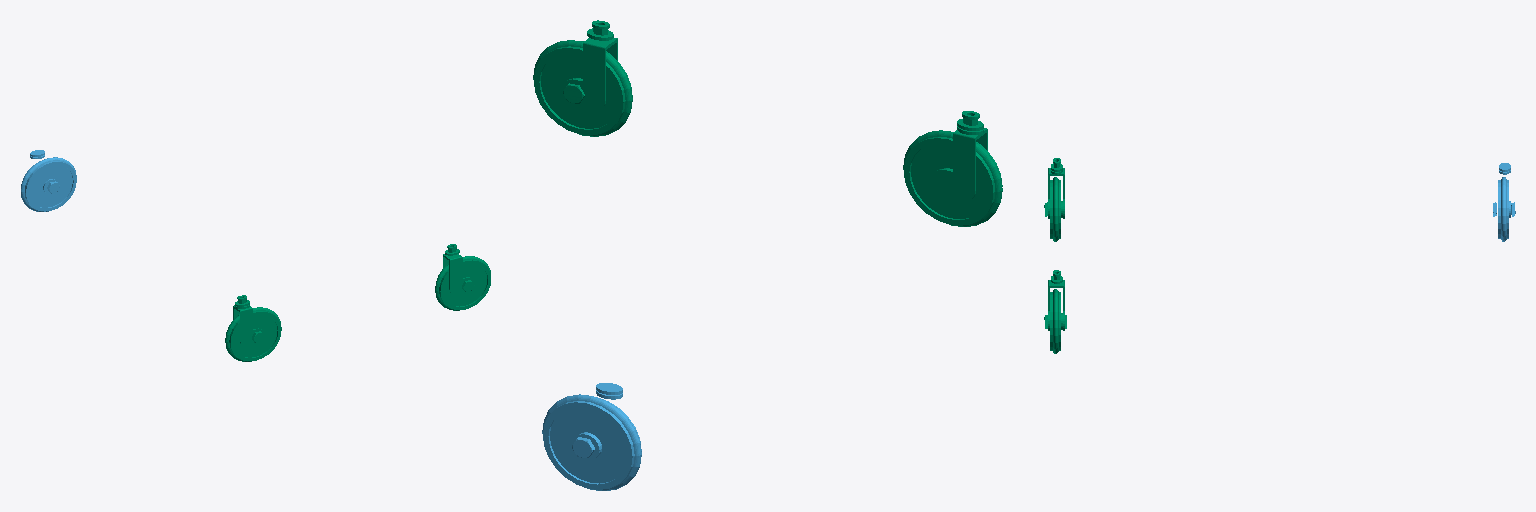
The robot description file, URDF, robot "partnet_10798ccb7072393e86d53ab0fe94e911":
<robot name="partnet_10798ccb7072393e86d53ab0fe94e911">
	<link name="base" />
	<link name="link_0">
		<collision>
			<origin xyz="0.3800690160374884 0 -0.5280916393456697" />
			<geometry>
				<mesh filename="new5_objs/handle-7-0.obj" />
			</geometry>
		</collision>
		<collision>
			<origin xyz="0.3800690160374884 0 -0.5280916393456697" />
			<geometry>
				<mesh filename="new5_objs/handle-7-1.obj" />
			</geometry>
		</collision>
		<collision>
			<origin xyz="0.3800690160374884 0 -0.5280916393456697" />
			<geometry>
				<mesh filename="new5_objs/handle-7-2.obj" />
			</geometry>
		</collision>
		<collision>
			<origin xyz="0.3800690160374884 0 -0.5280916393456697" />
			<geometry>
				<mesh filename="new5_objs/handle-7-3.obj" />
			</geometry>
		</collision>
		<collision>
			<origin xyz="0.3800690160374884 0 -0.5280916393456697" />
			<geometry>
				<mesh filename="new5_objs/cabinet_door_surface-6-0.obj" />
			</geometry>
		</collision>
		<collision>
			<origin xyz="0.3800690160374884 0 -0.5280916393456697" />
			<geometry>
				<mesh filename="new5_objs/cabinet_door_surface-6-1.obj" />
			</geometry>
		</collision>
		<collision>
			<origin xyz="0.3800690160374884 0 -0.5280916393456697" />
			<geometry>
				<mesh filename="new5_objs/cabinet_door_surface-6-2.obj" />
			</geometry>
		</collision>
		<collision>
			<origin xyz="0.3800690160374884 0 -0.5280916393456697" />
			<geometry>
				<mesh filename="new5_objs/cabinet_door_surface-6-3.obj" />
			</geometry>
		</collision>
		<collision>
			<origin xyz="0.3800690160374884 0 -0.5280916393456697" />
			<geometry>
				<mesh filename="new5_objs/cabinet_door_surface-6-4.obj" />
			</geometry>
		</collision>
		<collision>
			<origin xyz="0.3800690160374884 0 -0.5280916393456697" />
			<geometry>
				<mesh filename="new5_objs/cabinet_door_surface-6-5.obj" />
			</geometry>
		</collision>
		<collision>
			<origin xyz="0.3800690160374884 0 -0.5280916393456697" />
			<geometry>
				<mesh filename="new5_objs/cabinet_door_surface-6-6.obj" />
			</geometry>
		</collision>
		<collision>
			<origin xyz="0.3800690160374884 0 -0.5280916393456697" />
			<geometry>
				<mesh filename="new5_objs/cabinet_door_surface-6-7.obj" />
			</geometry>
		</collision>
		<collision>
			<origin xyz="0.3800690160374884 0 -0.5280916393456697" />
			<geometry>
				<mesh filename="new5_objs/cabinet_door_surface-6-8.obj" />
			</geometry>
		</collision>
		<collision>
			<origin xyz="0.3800690160374884 0 -0.5280916393456697" />
			<geometry>
				<mesh filename="new5_objs/cabinet_door_surface-6-9.obj" />
			</geometry>
		</collision>
		<collision>
			<origin xyz="0.3800690160374884 0 -0.5280916393456697" />
			<geometry>
				<mesh filename="new5_objs/cabinet_door_surface-6-10.obj" />
			</geometry>
		</collision>
		<collision>
			<origin xyz="0.3800690160374884 0 -0.5280916393456697" />
			<geometry>
				<mesh filename="new5_objs/cabinet_door_surface-6-11.obj" />
			</geometry>
		</collision>
		<visual name="cabinet_door_surface-6">
			<origin xyz="0.3800690160374884 0 -0.5280916393456697" />
			<geometry>
				<mesh filename="textured_objs/original-25.obj" />
			</geometry>
		</visual>
		<visual name="cabinet_door_surface-6">
			<origin xyz="0.3800690160374884 0 -0.5280916393456697" />
			<geometry>
				<mesh filename="textured_objs/original-29.obj" />
			</geometry>
		</visual>
		<visual name="cabinet_door_surface-6">
			<origin xyz="0.3800690160374884 0 -0.5280916393456697" />
			<geometry>
				<mesh filename="textured_objs/original-27.obj" />
			</geometry>
		</visual>
		<visual name="cabinet_door_surface-6">
			<origin xyz="0.3800690160374884 0 -0.5280916393456697" />
			<geometry>
				<mesh filename="textured_objs/original-26.obj" />
			</geometry>
		</visual>
		<visual name="cabinet_door_surface-6">
			<origin xyz="0.3800690160374884 0 -0.5280916393456697" />
			<geometry>
				<mesh filename="textured_objs/original-28.obj" />
			</geometry>
		</visual>
		<visual name="handle-7">
			<origin xyz="0.3800690160374884 0 -0.5280916393456697" />
			<geometry>
				<mesh filename="textured_objs/original-30.obj" />
			</geometry>
		</visual>
		</link>
	<joint name="joint_0" type="revolute">
		<origin xyz="-0.3800690160374884 0 0.5280916393456697" />
		<axis xyz="0 -1 0" />
		<child link="link_0" />
		<parent link="link_1" />
		<limit lower="-0.0" upper="2.8274333882308134" />
	</joint>
	<link name="link_1">
		<collision>
			<origin xyz="0 0 0" />
			<geometry>
				<mesh filename="new5_objs/bottom_panel-13-0.obj" />
			</geometry>
		</collision>
		<collision>
			<origin xyz="0 0 0" />
			<geometry>
				<mesh filename="new5_objs/base_side_panel-11-0.obj" />
			</geometry>
		</collision>
		<collision>
			<origin xyz="0 0 0" />
			<geometry>
				<mesh filename="new5_objs/other_leaf-24-0.obj" />
			</geometry>
		</collision>
		<collision>
			<origin xyz="0 0 0" />
			<geometry>
				<mesh filename="new5_objs/frame_horizontal_bar-29-0.obj" />
			</geometry>
		</collision>
		<collision>
			<origin xyz="0 0 0" />
			<geometry>
				<mesh filename="new5_objs/frame_horizontal_bar-29-1.obj" />
			</geometry>
		</collision>
		<collision>
			<origin xyz="0 0 0" />
			<geometry>
				<mesh filename="new5_objs/frame_horizontal_bar-29-2.obj" />
			</geometry>
		</collision>
		<collision>
			<origin xyz="0 0 0" />
			<geometry>
				<mesh filename="new5_objs/frame_horizontal_bar-29-3.obj" />
			</geometry>
		</collision>
		<collision>
			<origin xyz="0 0 0" />
			<geometry>
				<mesh filename="new5_objs/frame_horizontal_bar-29-4.obj" />
			</geometry>
		</collision>
		<collision>
			<origin xyz="0 0 0" />
			<geometry>
				<mesh filename="new5_objs/frame_horizontal_bar-29-5.obj" />
			</geometry>
		</collision>
		<collision>
			<origin xyz="0 0 0" />
			<geometry>
				<mesh filename="new5_objs/frame_horizontal_bar-29-6.obj" />
			</geometry>
		</collision>
		<collision>
			<origin xyz="0 0 0" />
			<geometry>
				<mesh filename="new5_objs/back_panel-16-0.obj" />
			</geometry>
		</collision>
		<collision>
			<origin xyz="0 0 0" />
			<geometry>
				<mesh filename="new5_objs/other_leaf-23-0.obj" />
			</geometry>
		</collision>
		<collision>
			<origin xyz="0 0 0" />
			<geometry>
				<mesh filename="new5_objs/frame_vertical_bar-26-0.obj" />
			</geometry>
		</collision>
		<collision>
			<origin xyz="0 0 0" />
			<geometry>
				<mesh filename="new5_objs/base_side_panel-12-0.obj" />
			</geometry>
		</collision>
		<collision>
			<origin xyz="0 0 0" />
			<geometry>
				<mesh filename="new5_objs/vertical_side_panel-15-0.obj" />
			</geometry>
		</collision>
		<collision>
			<origin xyz="0 0 0" />
			<geometry>
				<mesh filename="new5_objs/vertical_side_panel-15-1.obj" />
			</geometry>
		</collision>
		<collision>
			<origin xyz="0 0 0" />
			<geometry>
				<mesh filename="new5_objs/vertical_side_panel-15-2.obj" />
			</geometry>
		</collision>
		<collision>
			<origin xyz="0 0 0" />
			<geometry>
				<mesh filename="new5_objs/vertical_side_panel-15-3.obj" />
			</geometry>
		</collision>
		<collision>
			<origin xyz="0 0 0" />
			<geometry>
				<mesh filename="new5_objs/vertical_side_panel-15-4.obj" />
			</geometry>
		</collision>
		<collision>
			<origin xyz="0 0 0" />
			<geometry>
				<mesh filename="new5_objs/vertical_side_panel-15-5.obj" />
			</geometry>
		</collision>
		<collision>
			<origin xyz="0 0 0" />
			<geometry>
				<mesh filename="new5_objs/vertical_side_panel-15-6.obj" />
			</geometry>
		</collision>
		<collision>
			<origin xyz="0 0 0" />
			<geometry>
				<mesh filename="new5_objs/vertical_side_panel-15-7.obj" />
			</geometry>
		</collision>
		<collision>
			<origin xyz="0 0 0" />
			<geometry>
				<mesh filename="new5_objs/vertical_side_panel-15-8.obj" />
			</geometry>
		</collision>
		<collision>
			<origin xyz="0 0 0" />
			<geometry>
				<mesh filename="new5_objs/vertical_side_panel-15-9.obj" />
			</geometry>
		</collision>
		<collision>
			<origin xyz="0 0 0" />
			<geometry>
				<mesh filename="new5_objs/frame_horizontal_bar-27-0.obj" />
			</geometry>
		</collision>
		<collision>
			<origin xyz="0 0 0" />
			<geometry>
				<mesh filename="new5_objs/frame_horizontal_bar-27-1.obj" />
			</geometry>
		</collision>
		<collision>
			<origin xyz="0 0 0" />
			<geometry>
				<mesh filename="new5_objs/frame_horizontal_bar-27-2.obj" />
			</geometry>
		</collision>
		<collision>
			<origin xyz="0 0 0" />
			<geometry>
				<mesh filename="new5_objs/frame_horizontal_bar-27-3.obj" />
			</geometry>
		</collision>
		<collision>
			<origin xyz="0 0 0" />
			<geometry>
				<mesh filename="new5_objs/frame_horizontal_bar-27-4.obj" />
			</geometry>
		</collision>
		<collision>
			<origin xyz="0 0 0" />
			<geometry>
				<mesh filename="new5_objs/frame_horizontal_bar-27-5.obj" />
			</geometry>
		</collision>
		<collision>
			<origin xyz="0 0 0" />
			<geometry>
				<mesh filename="new5_objs/frame_horizontal_bar-27-6.obj" />
			</geometry>
		</collision>
		<collision>
			<origin xyz="0 0 0" />
			<geometry>
				<mesh filename="new5_objs/frame_horizontal_bar-27-7.obj" />
			</geometry>
		</collision>
		<collision>
			<origin xyz="0 0 0" />
			<geometry>
				<mesh filename="new5_objs/base_side_panel-10-0.obj" />
			</geometry>
		</collision>
		<collision>
			<origin xyz="0 0 0" />
			<geometry>
				<mesh filename="new5_objs/base_side_panel-9-0.obj" />
			</geometry>
		</collision>
		<collision>
			<origin xyz="0 0 0" />
			<geometry>
				<mesh filename="new5_objs/other_leaf-22-0.obj" />
			</geometry>
		</collision>
		<collision>
			<origin xyz="0 0 0" />
			<geometry>
				<mesh filename="new5_objs/frame_vertical_bar-25-0.obj" />
			</geometry>
		</collision>
		<collision>
			<origin xyz="0 0 0" />
			<geometry>
				<mesh filename="new5_objs/frame_horizontal_bar-28-0.obj" />
			</geometry>
		</collision>
		<collision>
			<origin xyz="0 0 0" />
			<geometry>
				<mesh filename="new5_objs/frame_horizontal_bar-28-1.obj" />
			</geometry>
		</collision>
		<collision>
			<origin xyz="0 0 0" />
			<geometry>
				<mesh filename="new5_objs/frame_horizontal_bar-28-2.obj" />
			</geometry>
		</collision>
		<collision>
			<origin xyz="0 0 0" />
			<geometry>
				<mesh filename="new5_objs/frame_horizontal_bar-28-3.obj" />
			</geometry>
		</collision>
		<collision>
			<origin xyz="0 0 0" />
			<geometry>
				<mesh filename="new5_objs/frame_horizontal_bar-28-4.obj" />
			</geometry>
		</collision>
		<collision>
			<origin xyz="0 0 0" />
			<geometry>
				<mesh filename="new5_objs/other_leaf-21-0.obj" />
			</geometry>
		</collision>
		<collision>
			<origin xyz="0 0 0" />
			<geometry>
				<mesh filename="new5_objs/vertical_side_panel-14-0.obj" />
			</geometry>
		</collision>
		<collision>
			<origin xyz="0 0 0" />
			<geometry>
				<mesh filename="new5_objs/vertical_side_panel-14-1.obj" />
			</geometry>
		</collision>
		<collision>
			<origin xyz="0 0 0" />
			<geometry>
				<mesh filename="new5_objs/vertical_side_panel-14-2.obj" />
			</geometry>
		</collision>
		<collision>
			<origin xyz="0 0 0" />
			<geometry>
				<mesh filename="new5_objs/vertical_side_panel-14-3.obj" />
			</geometry>
		</collision>
		<collision>
			<origin xyz="0 0 0" />
			<geometry>
				<mesh filename="new5_objs/vertical_side_panel-14-4.obj" />
			</geometry>
		</collision>
		<collision>
			<origin xyz="0 0 0" />
			<geometry>
				<mesh filename="new5_objs/vertical_side_panel-14-5.obj" />
			</geometry>
		</collision>
		<collision>
			<origin xyz="0 0 0" />
			<geometry>
				<mesh filename="new5_objs/vertical_side_panel-14-6.obj" />
			</geometry>
		</collision>
		<collision>
			<origin xyz="0 0 0" />
			<geometry>
				<mesh filename="new5_objs/vertical_side_panel-14-7.obj" />
			</geometry>
		</collision>
		<collision>
			<origin xyz="0 0 0" />
			<geometry>
				<mesh filename="new5_objs/vertical_side_panel-14-8.obj" />
			</geometry>
		</collision>
		<collision>
			<origin xyz="0 0 0" />
			<geometry>
				<mesh filename="new5_objs/vertical_side_panel-14-9.obj" />
			</geometry>
		</collision>
		<collision>
			<origin xyz="0 0 0" />
			<geometry>
				<mesh filename="new5_objs/shelf-4-0.obj" />
			</geometry>
		</collision>
		<collision>
			<origin xyz="0 0 0" />
			<geometry>
				<mesh filename="new5_objs/shelf-4-1.obj" />
			</geometry>
		</collision>
		<collision>
			<origin xyz="0 0 0" />
			<geometry>
				<mesh filename="new5_objs/shelf-4-2.obj" />
			</geometry>
		</collision>
		<visual name="shelf-4">
			<origin xyz="0 0 0" />
			<geometry>
				<mesh filename="textured_objs/original-21.obj" />
			</geometry>
		</visual>
		<visual name="vertical_side_panel-14">
			<origin xyz="0 0 0" />
			<geometry>
				<mesh filename="textured_objs/original-17.obj" />
			</geometry>
		</visual>
		<visual name="vertical_side_panel-14">
			<origin xyz="0 0 0" />
			<geometry>
				<mesh filename="textured_objs/original-16.obj" />
			</geometry>
		</visual>
		<visual name="vertical_side_panel-15">
			<origin xyz="0 0 0" />
			<geometry>
				<mesh filename="textured_objs/original-8.obj" />
			</geometry>
		</visual>
		<visual name="vertical_side_panel-15">
			<origin xyz="0 0 0" />
			<geometry>
				<mesh filename="textured_objs/original-7.obj" />
			</geometry>
		</visual>
		<visual name="back_panel-16">
			<origin xyz="0 0 0" />
			<geometry>
				<mesh filename="textured_objs/original-13.obj" />
			</geometry>
		</visual>
		<visual name="other_leaf-24">
			<origin xyz="0 0 0" />
			<geometry>
				<mesh filename="textured_objs/original-20.obj" />
			</geometry>
		</visual>
		<visual name="other_leaf-23">
			<origin xyz="0 0 0" />
			<geometry>
				<mesh filename="textured_objs/original-12.obj" />
			</geometry>
		</visual>
		<visual name="other_leaf-22">
			<origin xyz="0 0 0" />
			<geometry>
				<mesh filename="textured_objs/original-11.obj" />
			</geometry>
		</visual>
		<visual name="other_leaf-21">
			<origin xyz="0 0 0" />
			<geometry>
				<mesh filename="textured_objs/original-10.obj" />
			</geometry>
		</visual>
		<visual name="frame_vertical_bar-25">
			<origin xyz="0 0 0" />
			<geometry>
				<mesh filename="textured_objs/original-2.obj" />
			</geometry>
		</visual>
		<visual name="frame_vertical_bar-26">
			<origin xyz="0 0 0" />
			<geometry>
				<mesh filename="textured_objs/original-4.obj" />
			</geometry>
		</visual>
		<visual name="frame_horizontal_bar-27">
			<origin xyz="0 0 0" />
			<geometry>
				<mesh filename="textured_objs/original-5.obj" />
			</geometry>
		</visual>
		<visual name="frame_horizontal_bar-28">
			<origin xyz="0 0 0" />
			<geometry>
				<mesh filename="textured_objs/original-23.obj" />
			</geometry>
		</visual>
		<visual name="frame_horizontal_bar-29">
			<origin xyz="0 0 0" />
			<geometry>
				<mesh filename="textured_objs/original-3.obj" />
			</geometry>
		</visual>
		<visual name="base_side_panel-9">
			<origin xyz="0 0 0" />
			<geometry>
				<mesh filename="textured_objs/original-14.obj" />
			</geometry>
		</visual>
		<visual name="base_side_panel-10">
			<origin xyz="0 0 0" />
			<geometry>
				<mesh filename="textured_objs/original-9.obj" />
			</geometry>
		</visual>
		<visual name="base_side_panel-11">
			<origin xyz="0 0 0" />
			<geometry>
				<mesh filename="textured_objs/original-19.obj" />
			</geometry>
		</visual>
		<visual name="base_side_panel-12">
			<origin xyz="0 0 0" />
			<geometry>
				<mesh filename="textured_objs/original-18.obj" />
			</geometry>
		</visual>
		<visual name="bottom_panel-13">
			<origin xyz="0 0 0" />
			<geometry>
				<mesh filename="textured_objs/original-22.obj" />
			</geometry>
		</visual>
		</link>
	<joint name="joint_1" type="fixed">
		<origin rpy="1.570796326794897 0 -1.570796326794897" xyz="0 0 0" />
		<child link="link_1" />
		<parent link="base" />
	</joint>
</robot>

--- What the picture shows (computed from the rendered views, not written in the file) ---
3 views of the same robot in one strip: view 1: azimuth 30°, elevation 25°; view 2: azimuth 150°, elevation 25°; view 3: azimuth 270°, elevation 25° (orthographic).
Model partnet_10798ccb7072393e86d53ab0fe94e911 with 3 links and 2 joints (1 revolute, 1 fixed), rooted at base, posed all joints at 0.
Links seen in each view (by area): view 1: link_1, link_0; view 2: link_1, link_0; view 3: link_1, link_0.
Link boxes in pixels (<box>): link_1: <box>225,244,490,361</box>; link_0: <box>21,150,76,211</box>; link_1: <box>533,20,1002,226</box>; link_0: <box>542,383,641,490</box>; link_1: <box>1044,158,1066,353</box>; link_0: <box>1493,163,1515,241</box>.
Size in the robot's own frame: 1.15 by 1.61 by 0.2741 metres.
Meshes: 26 distinct files referenced, 17 mesh visuals loaded (17 OBJ); not drawn: 9 (reference not matched to a file when rendering).